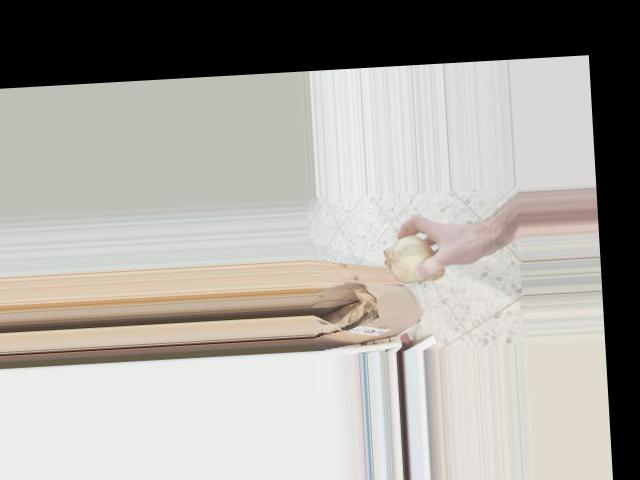onion: (381, 229, 446, 288)
